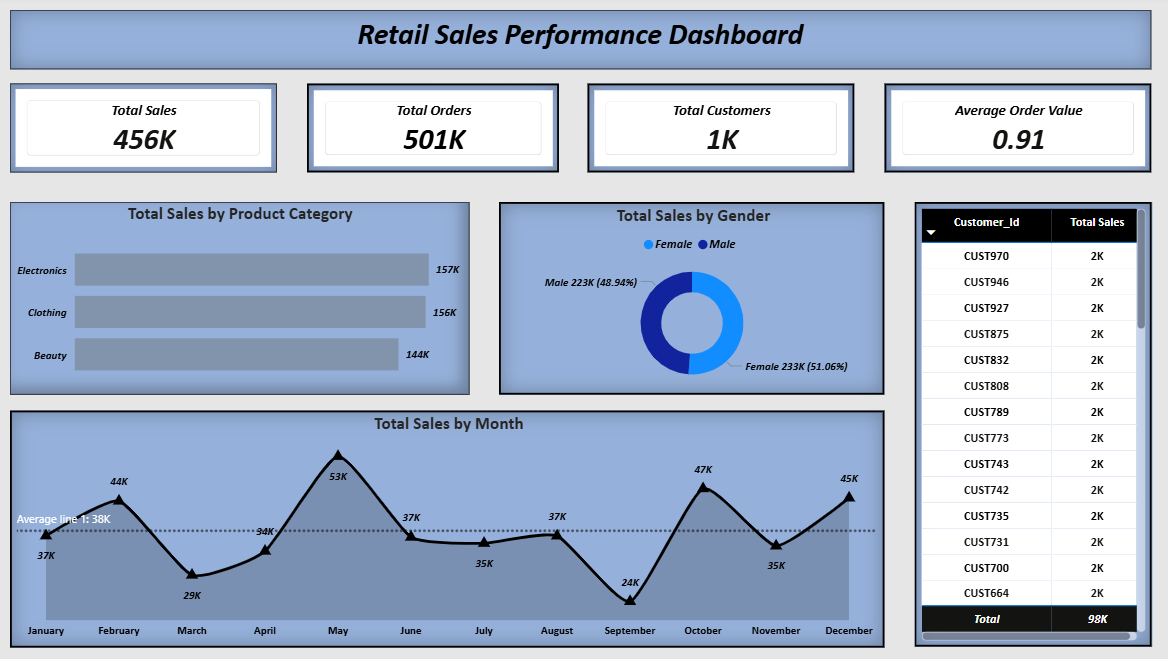

The page's visual inventory and layout, read from the dashboard file:
{"tool":"powerbi","page":{"name":"Retail_Sales","canvas":[1280,720],"ordinal":0},"visuals":[{"type":"lineChart","fields":{"Category":["retail_sales.Sales_Date.Variation.Date Hierarchy.Month"],"Y":["retail_sales.Total Sales"]},"box":[16,448,944,256],"z":0},{"type":"clusteredBarChart","title":"Total Sales by Product Category","fields":{"Category":["retail_sales.Product_Category"],"Y":["retail_sales.Total Sales"]},"box":[16,224,496,208],"z":1000},{"type":"donutChart","fields":{"Category":["retail_sales.Gender"],"Y":["retail_sales.Total Sales"]},"box":[544,224,416,208],"z":2000},{"type":"tableEx","fields":{"Values":["retail_sales.Customer_Id","retail_sales.Total Sales"]},"box":[992,224,256,480],"z":3000},{"type":"cardVisual","fields":{"Data":["retail_sales.Total Sales"]},"box":[16,96,288,96],"z":4000},{"type":"cardVisual","fields":{"Data":["retail_sales.Total Orders"]},"box":[336,96,272,96],"z":5000},{"type":"cardVisual","fields":{"Data":["retail_sales.Total Customers"]},"box":[640,96,288,96],"z":6000},{"type":"cardVisual","fields":{"Data":["retail_sales.Average Order Value"]},"box":[960,96,288,96],"z":7000},{"type":"textbox","title":"Retail Sales Performance Dashboard","box":[16,16,1232,64],"z":8000}]}

Visuals, with their boxes in screenshot pixels (x1, y1, x2, y2), scaled from the page's 1280x720 canvas onto the 1168x659 screenshot:
lineChart - retail_sales.Sales_Date.Variation.Date Hierarchy.Month x retail_sales.Total Sales: 15, 410, 876, 644
"Total Sales by Product Category" clusteredBarChart: 15, 205, 467, 395
donutChart - retail_sales.Gender x retail_sales.Total Sales: 496, 205, 876, 395
tableEx - retail_sales.Customer_Id x retail_sales.Total Sales: 905, 205, 1139, 644
cardVisual - retail_sales.Total Sales: 15, 88, 277, 176
cardVisual - retail_sales.Total Orders: 307, 88, 555, 176
cardVisual - retail_sales.Total Customers: 584, 88, 847, 176
cardVisual - retail_sales.Average Order Value: 876, 88, 1139, 176
"Retail Sales Performance Dashboard" textbox: 15, 15, 1139, 73
